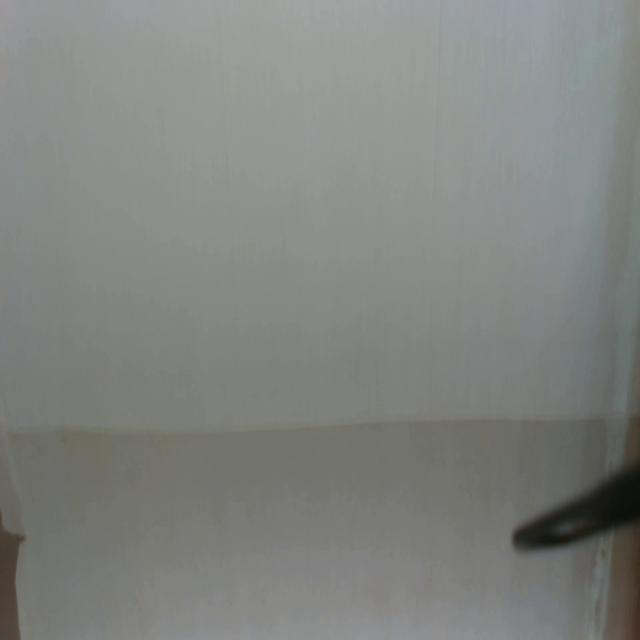color bleeding: (581, 533, 640, 637)
crease: (426, 4, 444, 422)
hole: (0, 514, 27, 640)
